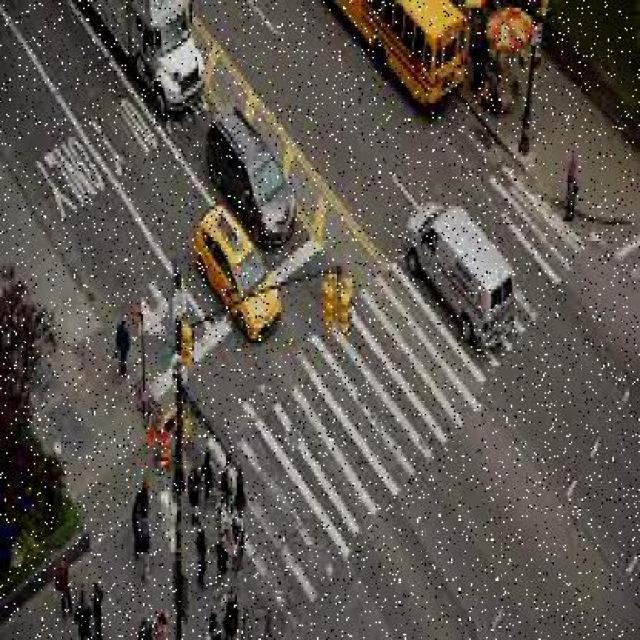crosswalk: (169, 256, 507, 630), (476, 154, 603, 303)
